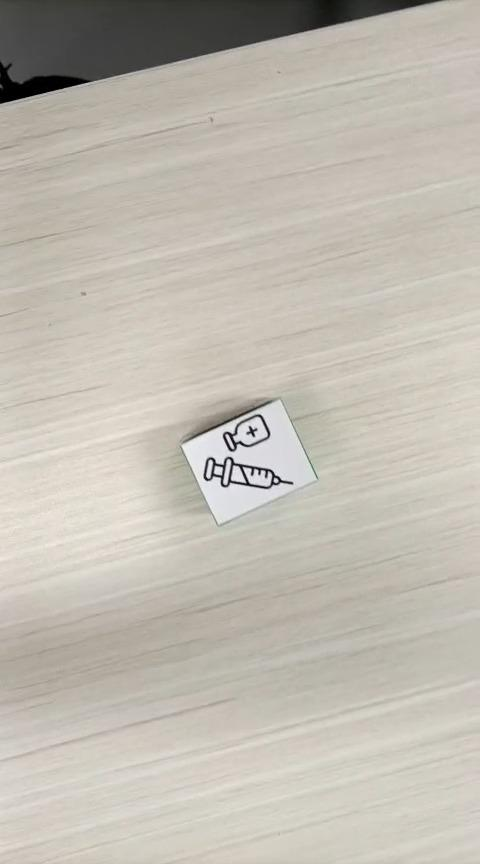antiseptic cream: (178, 395, 318, 527)
